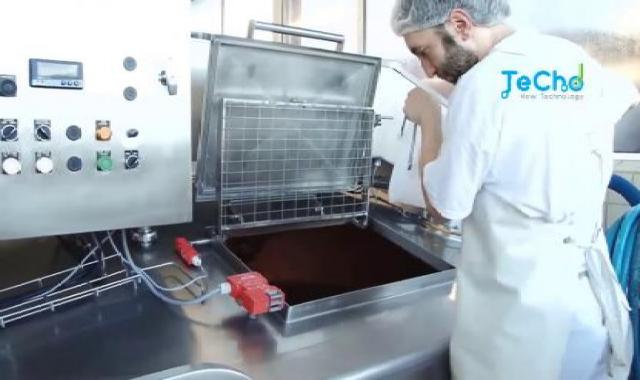hairnet: (386, 0, 518, 38)
